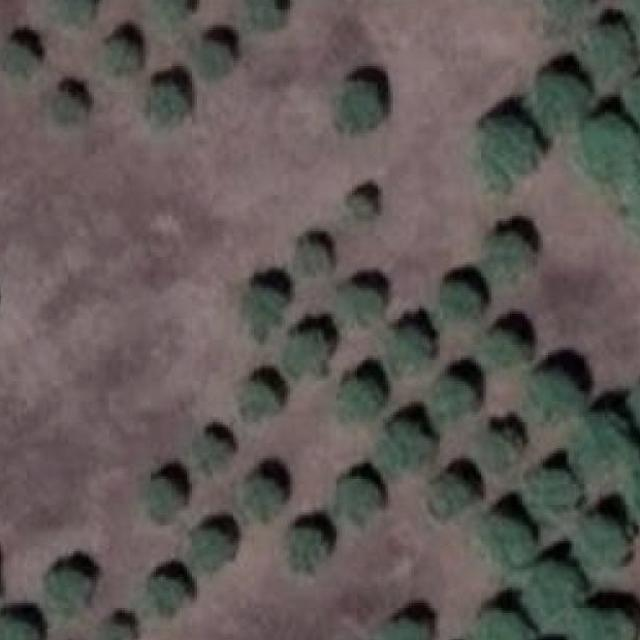Tree: (473, 112, 543, 182), (567, 118, 638, 184), (568, 415, 633, 479), (518, 564, 579, 622), (576, 24, 633, 84), (537, 74, 591, 127), (521, 469, 576, 521), (482, 513, 535, 566), (574, 518, 628, 570), (334, 80, 391, 129), (378, 326, 431, 375), (284, 523, 333, 575), (480, 229, 530, 279), (532, 369, 584, 417), (381, 420, 429, 472), (187, 520, 233, 574), (333, 479, 383, 527), (241, 281, 288, 332), (287, 326, 334, 375), (432, 472, 478, 522), (241, 479, 288, 525), (41, 562, 86, 610), (334, 378, 378, 426), (438, 278, 483, 324), (336, 280, 380, 326), (144, 87, 188, 132), (291, 236, 334, 282), (432, 376, 478, 418), (476, 430, 519, 474), (570, 611, 633, 640), (196, 38, 239, 80), (237, 379, 281, 420), (144, 572, 183, 616), (476, 613, 538, 640), (144, 476, 178, 524), (98, 38, 137, 79), (485, 327, 522, 368), (48, 0, 91, 34), (518, 0, 590, 20), (0, 40, 34, 80), (143, 0, 184, 32), (50, 90, 86, 126), (194, 436, 228, 474), (239, 0, 282, 30), (381, 615, 429, 640), (0, 615, 41, 640), (346, 193, 375, 224), (627, 460, 640, 521), (627, 73, 640, 132), (103, 616, 132, 640), (631, 370, 640, 440), (627, 0, 640, 46)
